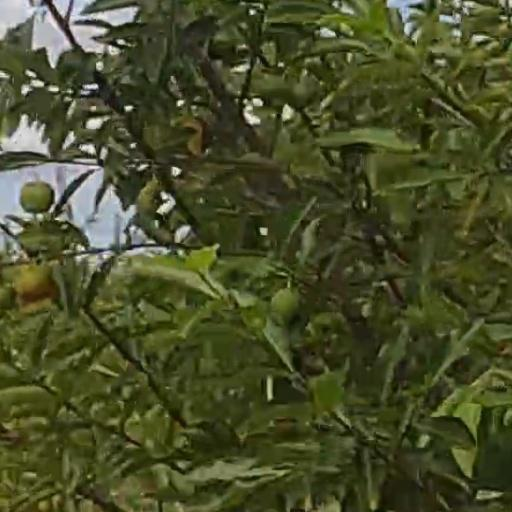acerola: (18, 265, 53, 297), (19, 183, 53, 212), (272, 291, 298, 322)
